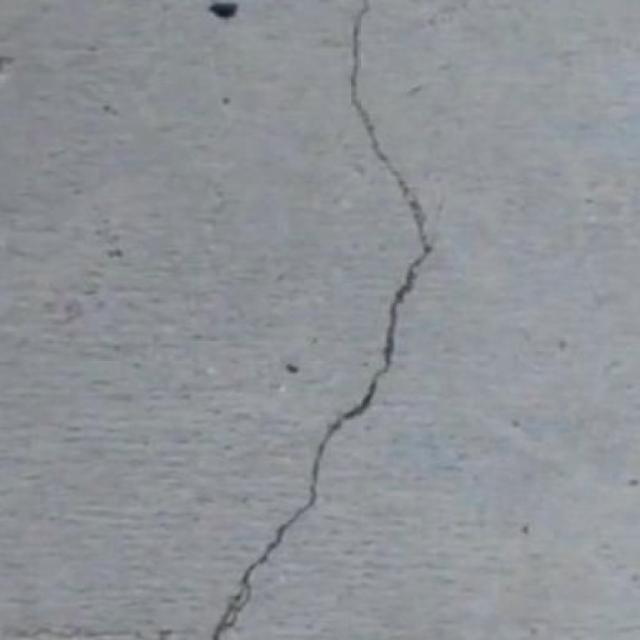Vertical Crack: (213, 0, 432, 638)
